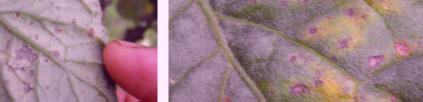Tomato Septoria leaf spot: (181, 0, 423, 102), (0, 0, 133, 102)
